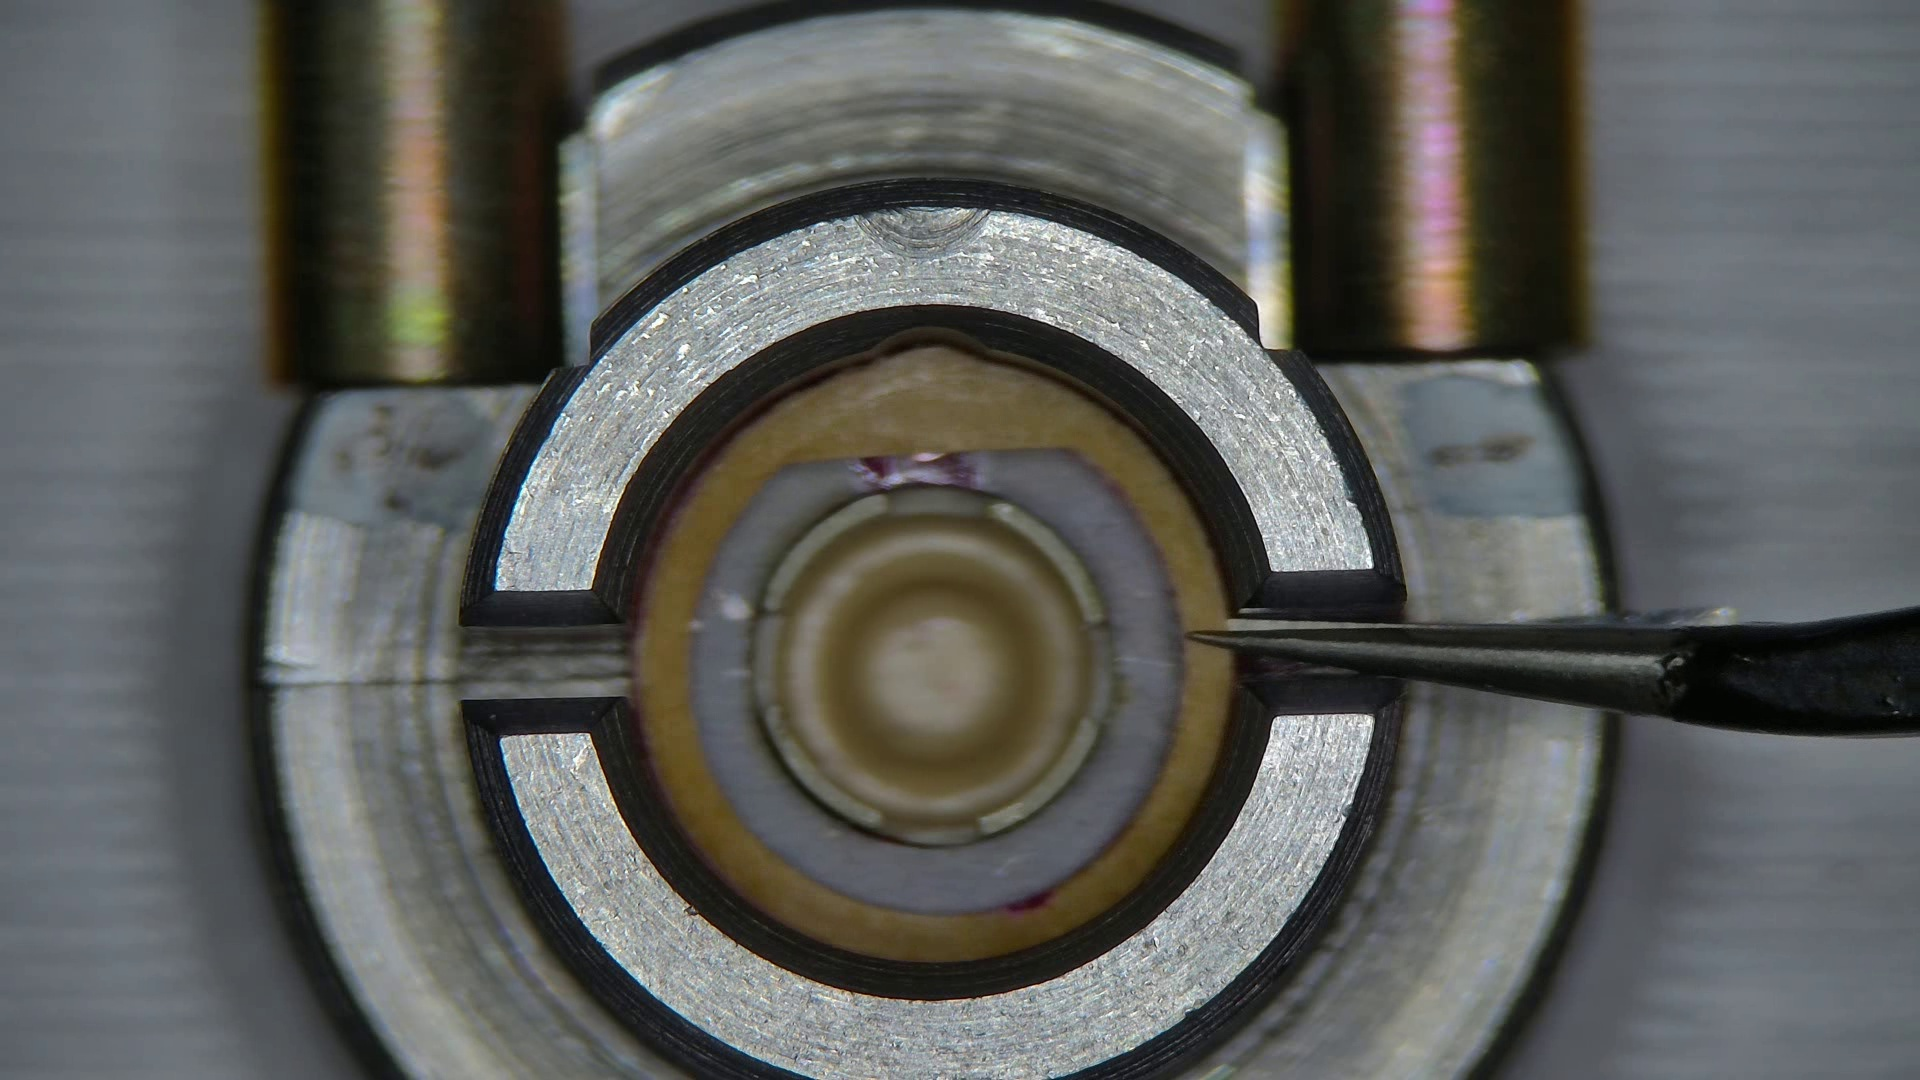YellowOring: (695, 454, 1178, 915)
redOring: (638, 347, 1232, 961)
